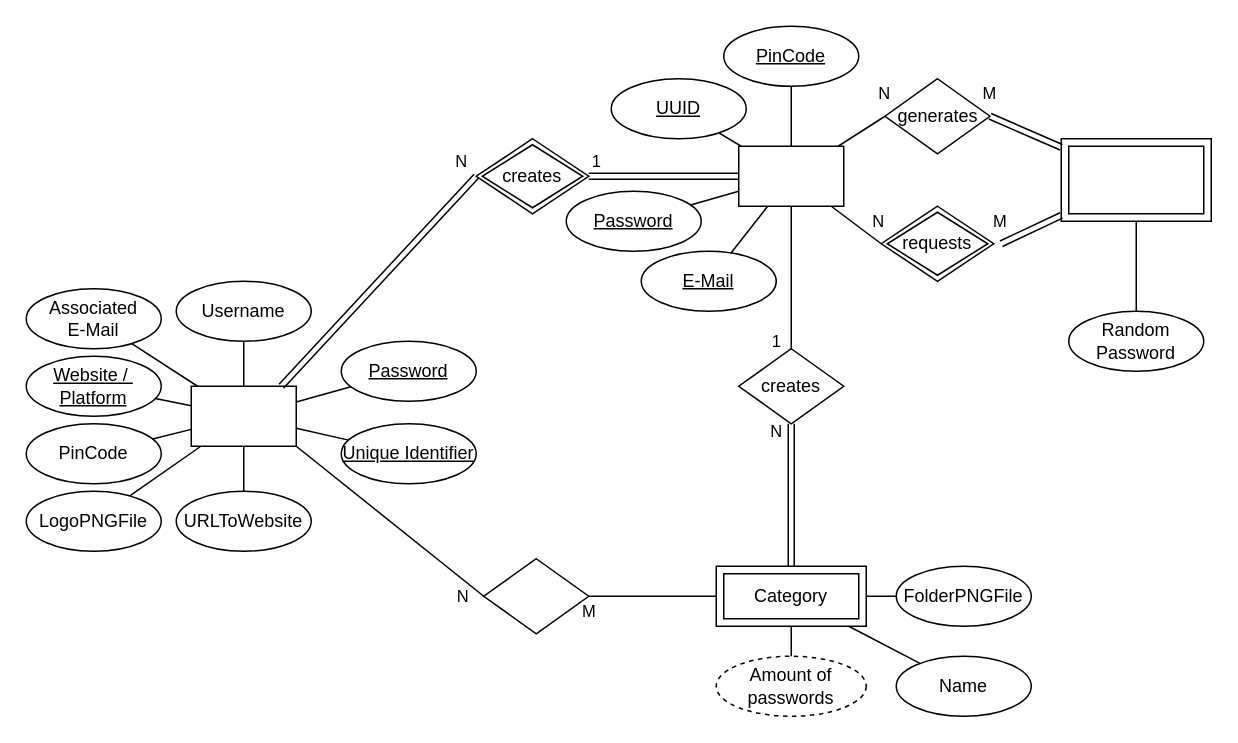
This 1238x743 diagram has some shape labels left out. The shapes that lost their labels are listed below. From the top down, each one's centre as x and y in pixels, then its label:
At point (790, 175): "Website User".
At point (1135, 179): "Random Password Generator".
At point (243, 415): "Account Information".
At point (535, 595): "has".
